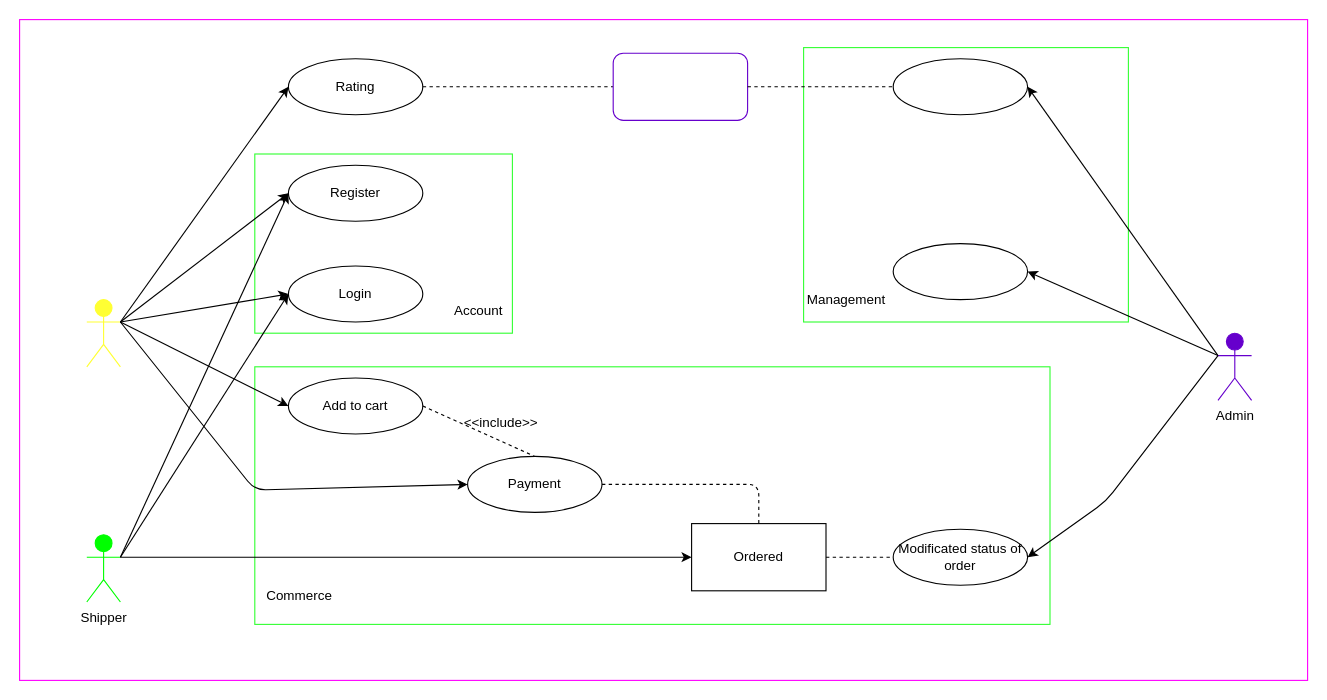
Image size: 1327x700. Some labels were removed from this diagram. The shapes that lost their labels are listed below. From the top down, each one's centre as x and y in pixels, then its label:
(680,86): Hot book/New book
(960,86): Put new books up to the interface
(960,271): CRUD
(103,332): Guest
